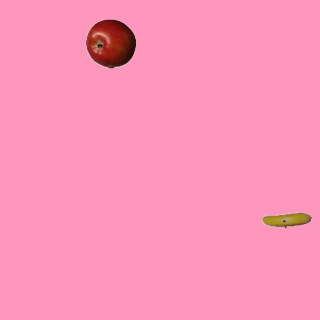Apple Braeburn: (85, 18, 135, 68)
Banana: (261, 195, 311, 245)
